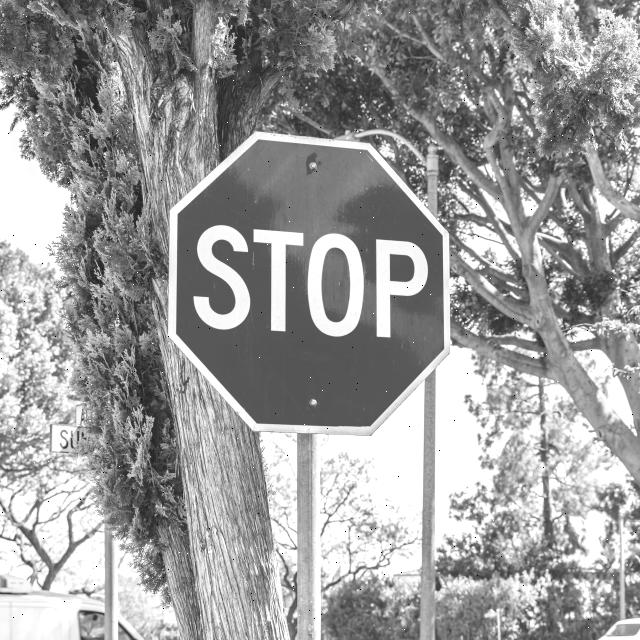Stop-sign: (162, 110, 463, 446)
